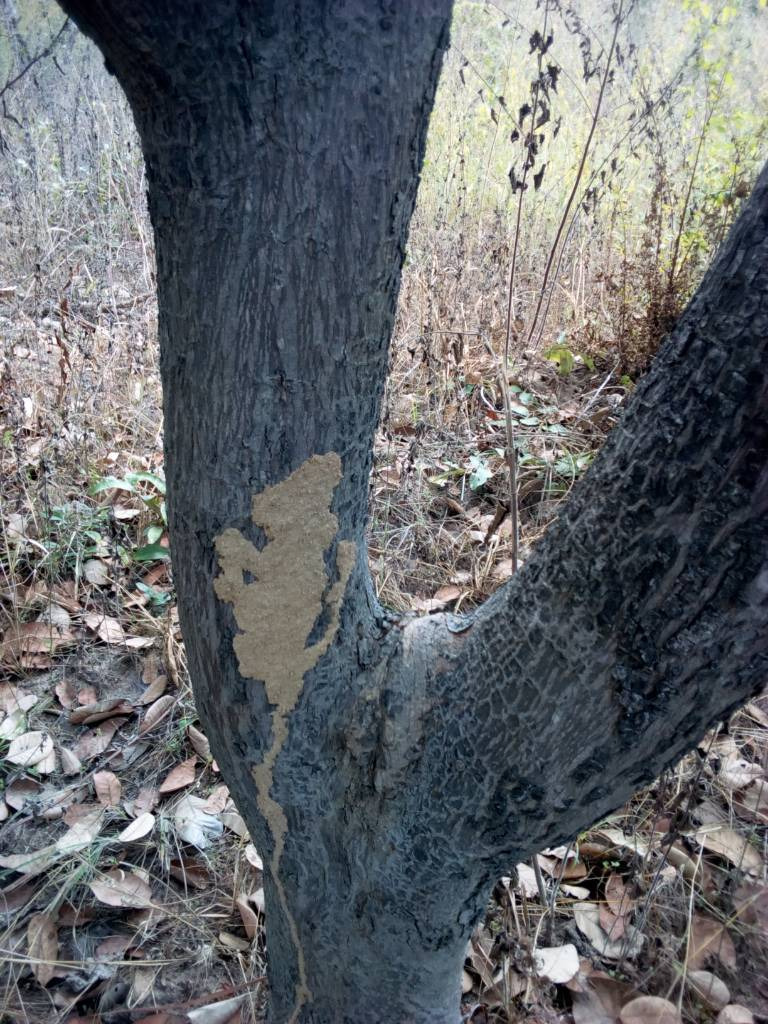Virose: (196, 443, 360, 847), (249, 853, 331, 1024)
